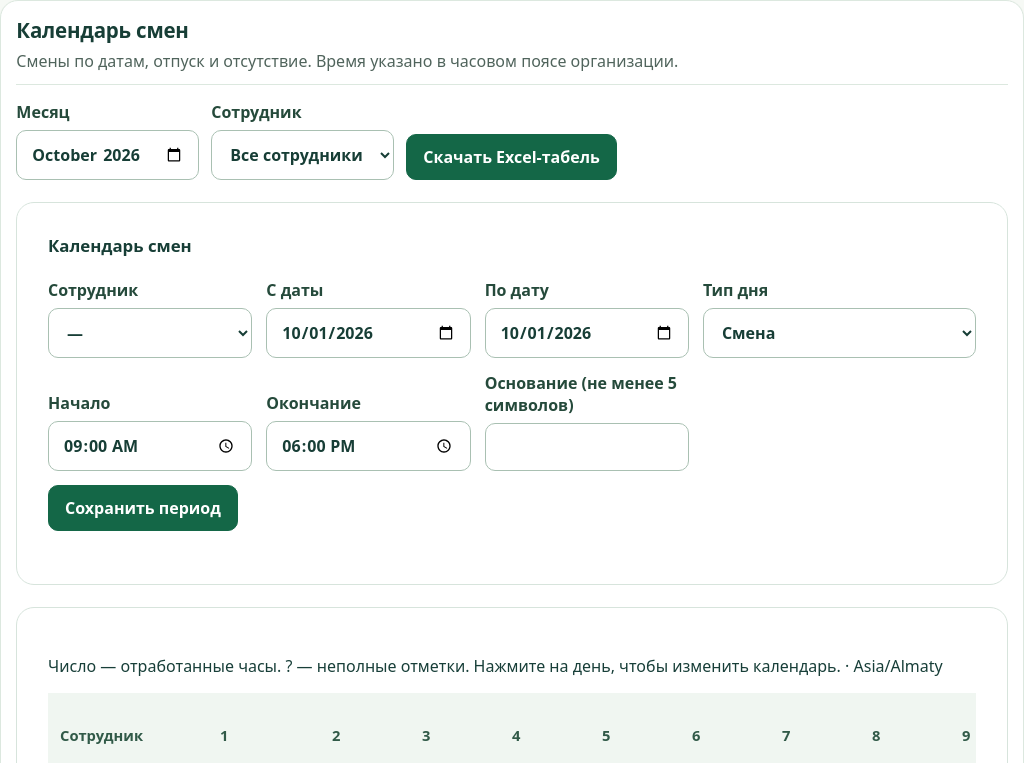
Scenario: saves approved leave without shift hours
Step 1. Select "Айгуль" in the dropdown labelled "Сотрудник" below "С даты" → (150, 333), box [48,308,252,358]
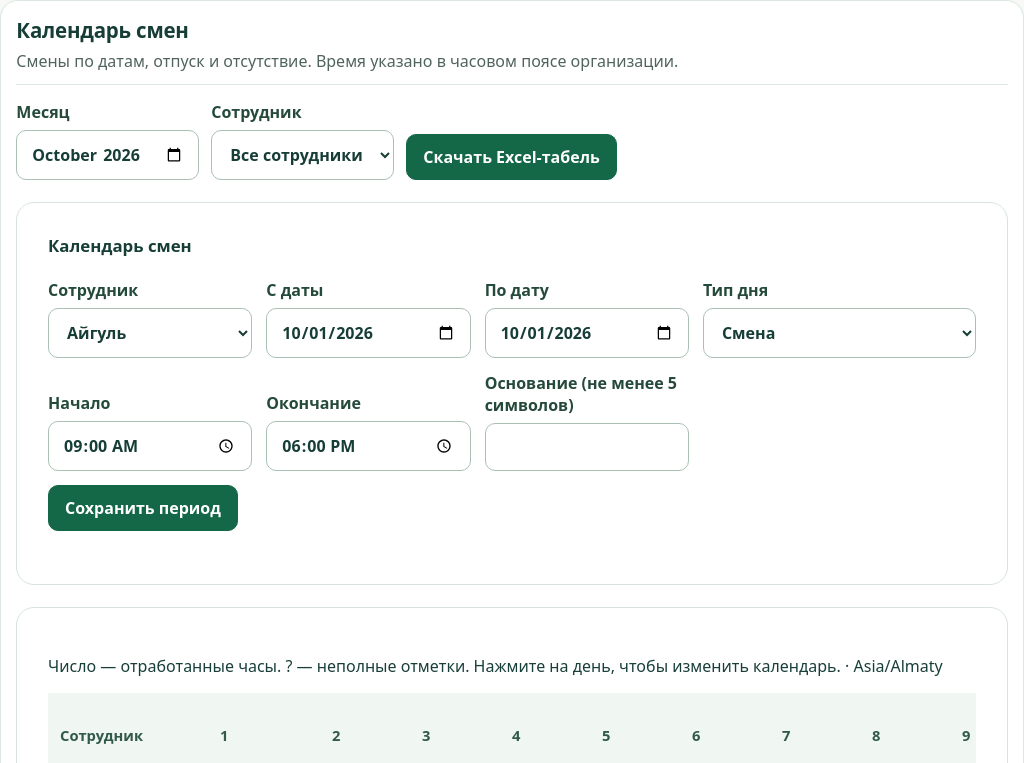
Step 2. Select "Отпуск" in the dropdown labelled "Тип дня" → (839, 333), box [703,308,976,358]
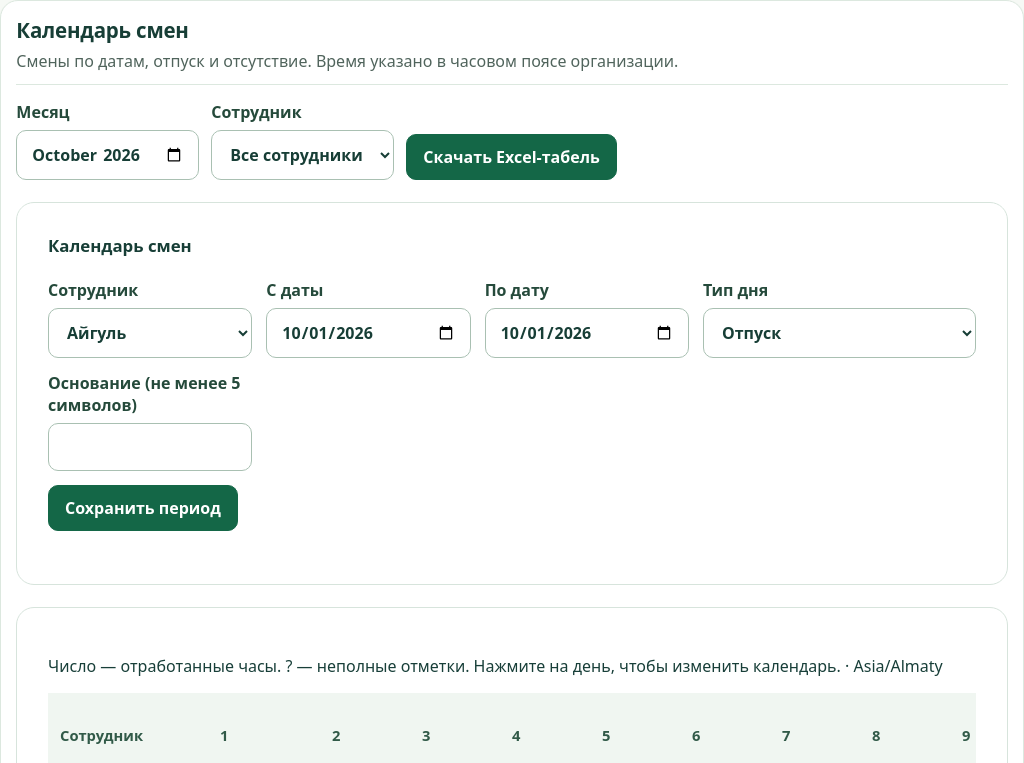
Step 3. Type "Отпуск согласован" into the field labelled "Основание (не менее 5 символов)" → (150, 447), box [48,423,252,471]
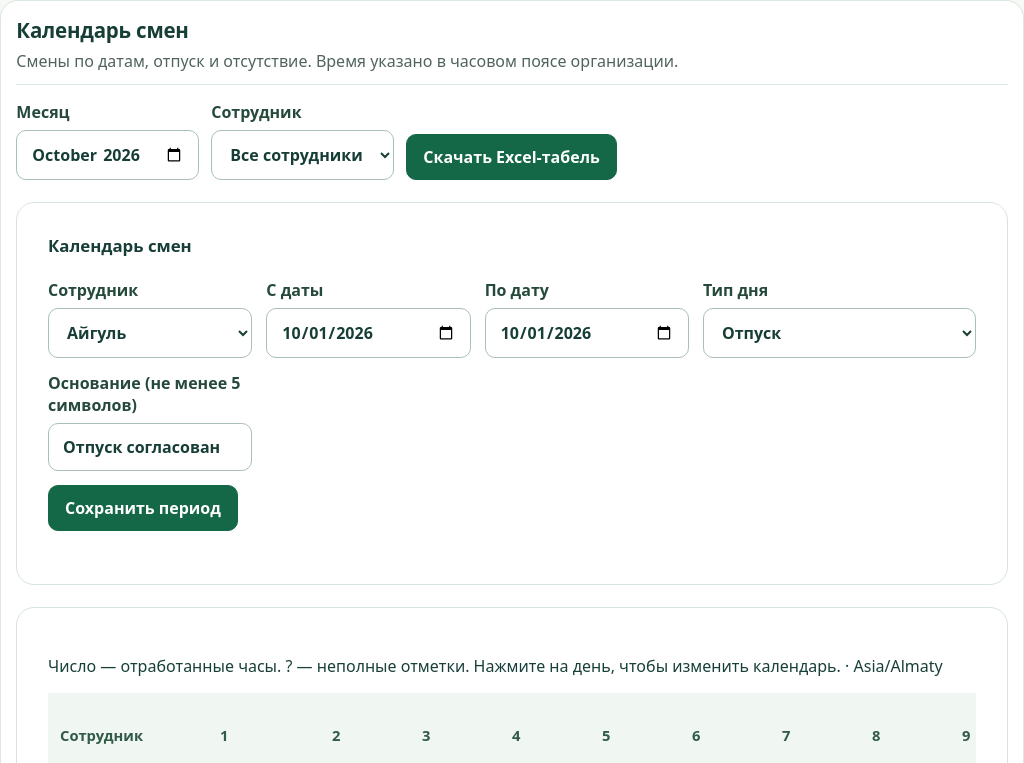
Step 4. Click the button "Сохранить период" → (143, 508), box [48,485,238,531]
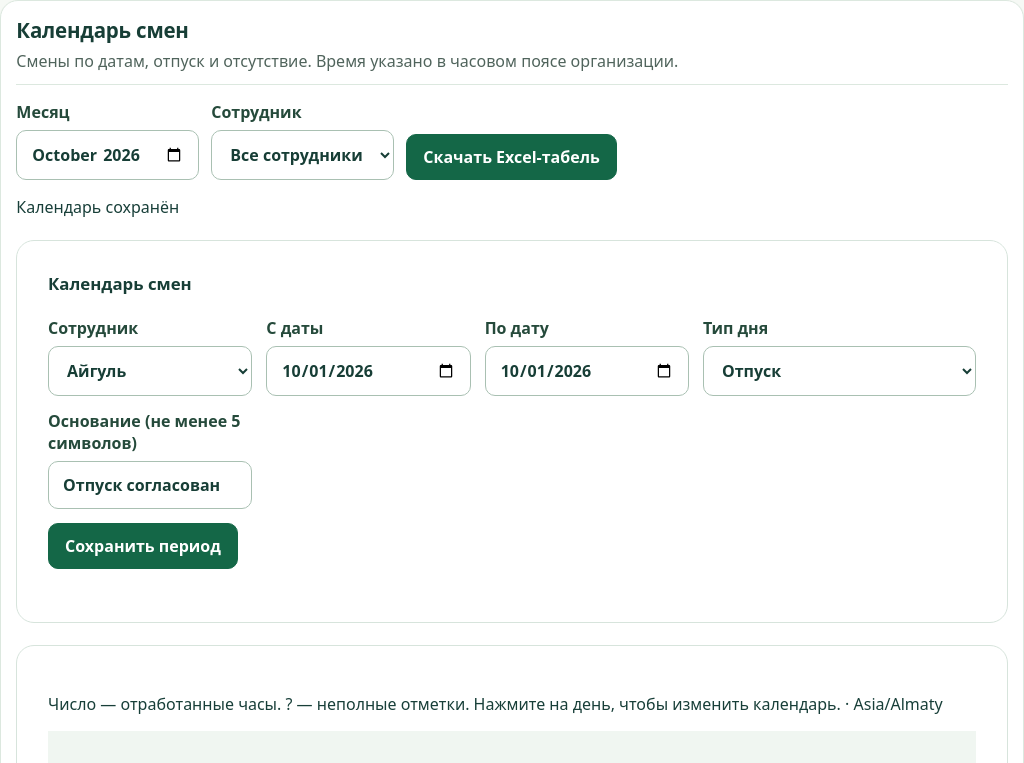
Expected: the text "Календарь сохранён" is shown, [16,196,179,218]
